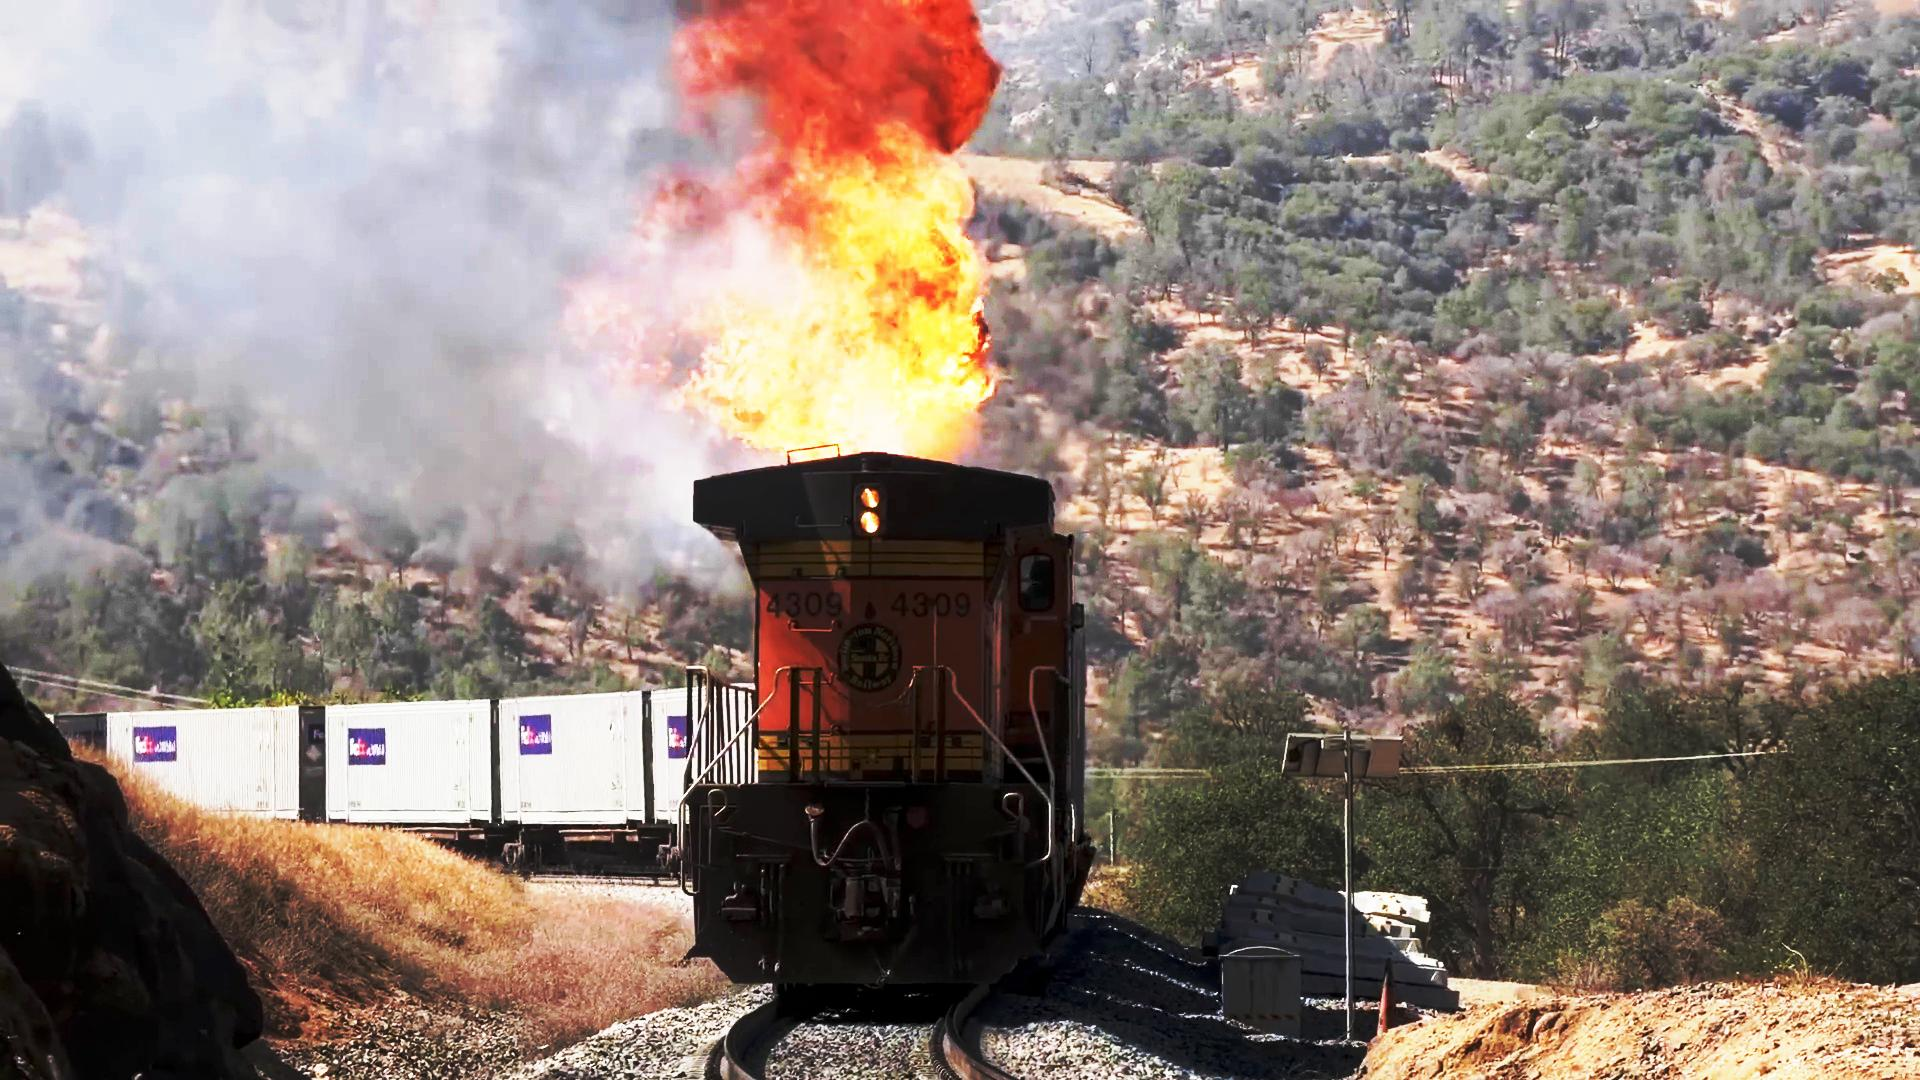fire: (705, 0, 977, 476)
